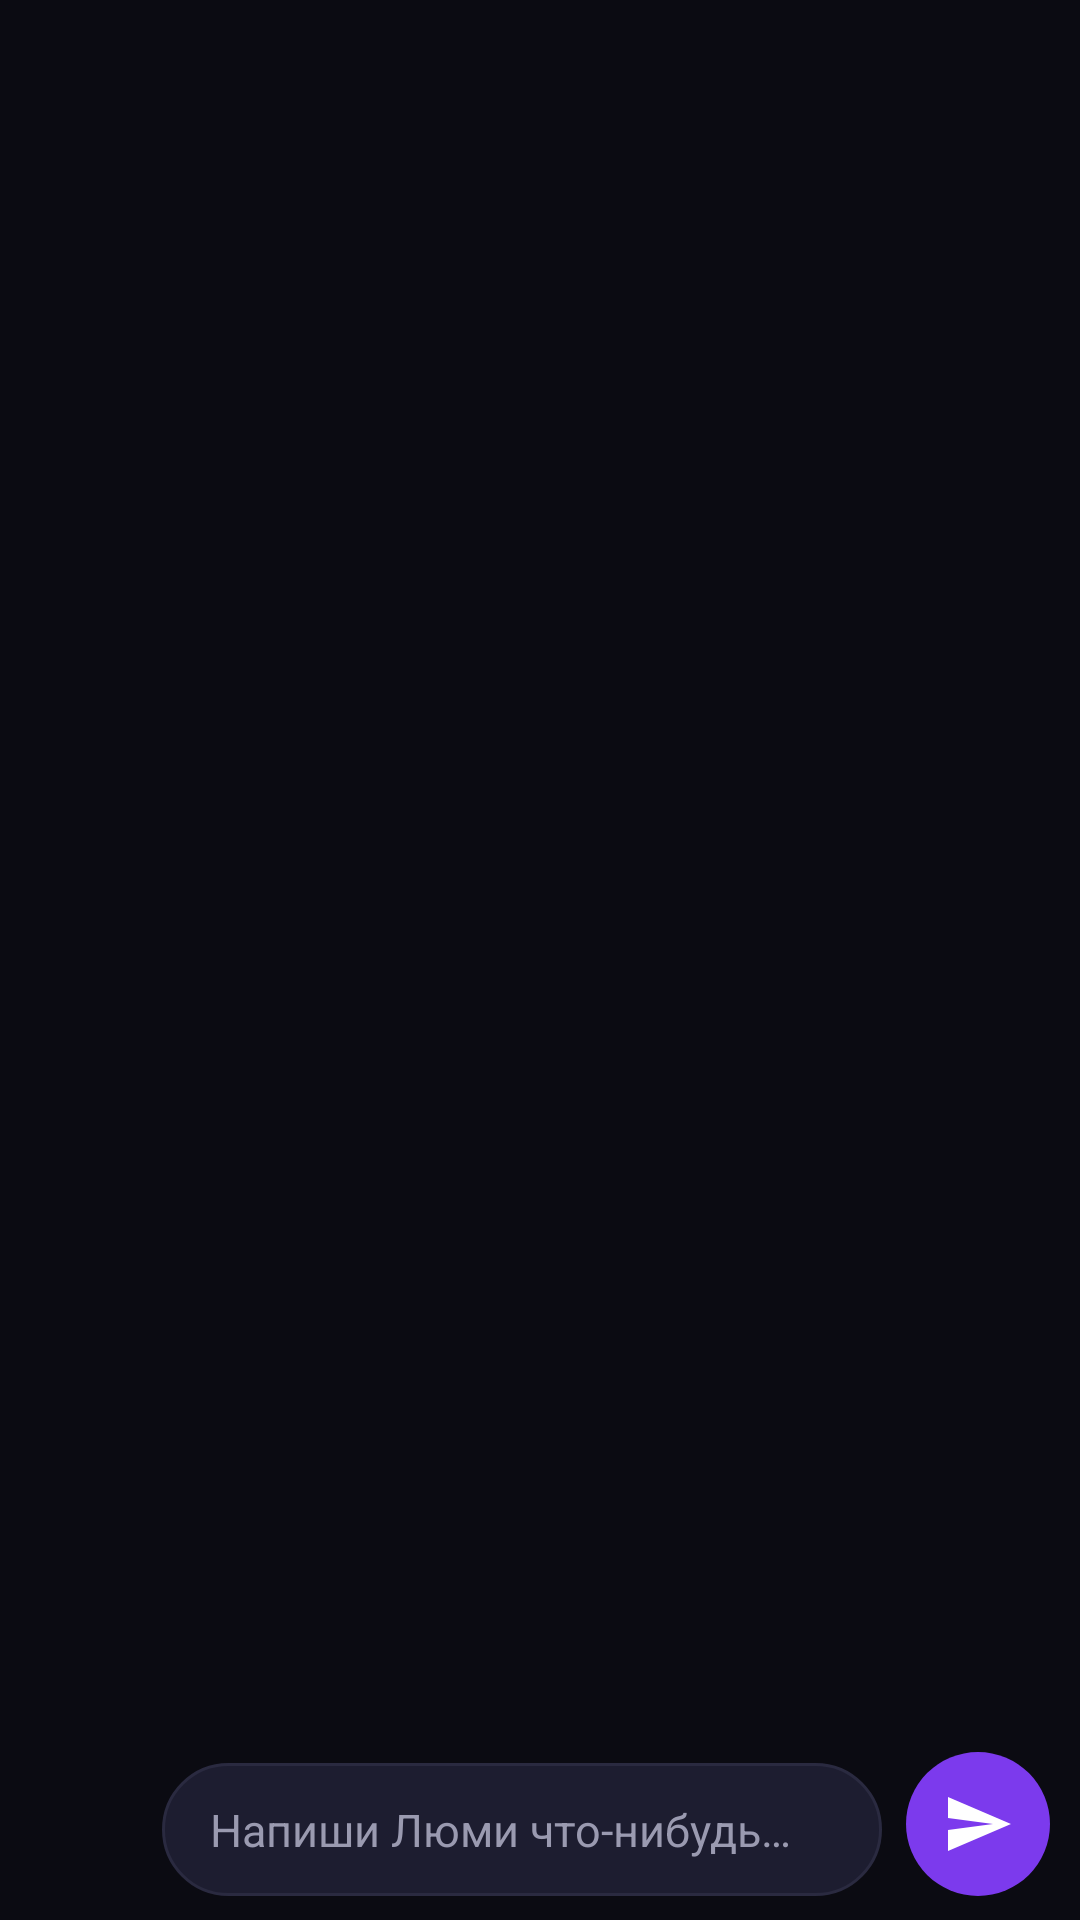

Named icons in this screenshot (1080×1920) and their centers, point (x, y):
Отправить: point (978, 1824)
